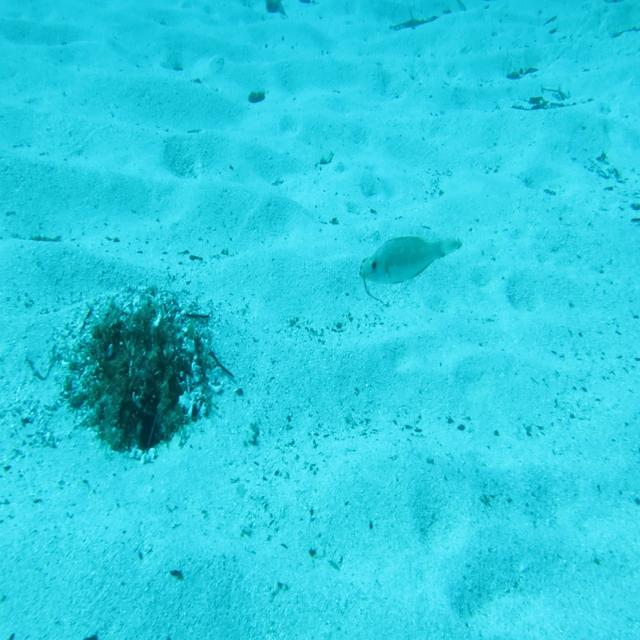AM: (360, 231, 466, 290)
nest: (63, 279, 223, 466)
vegetation: (358, 257, 384, 304)
